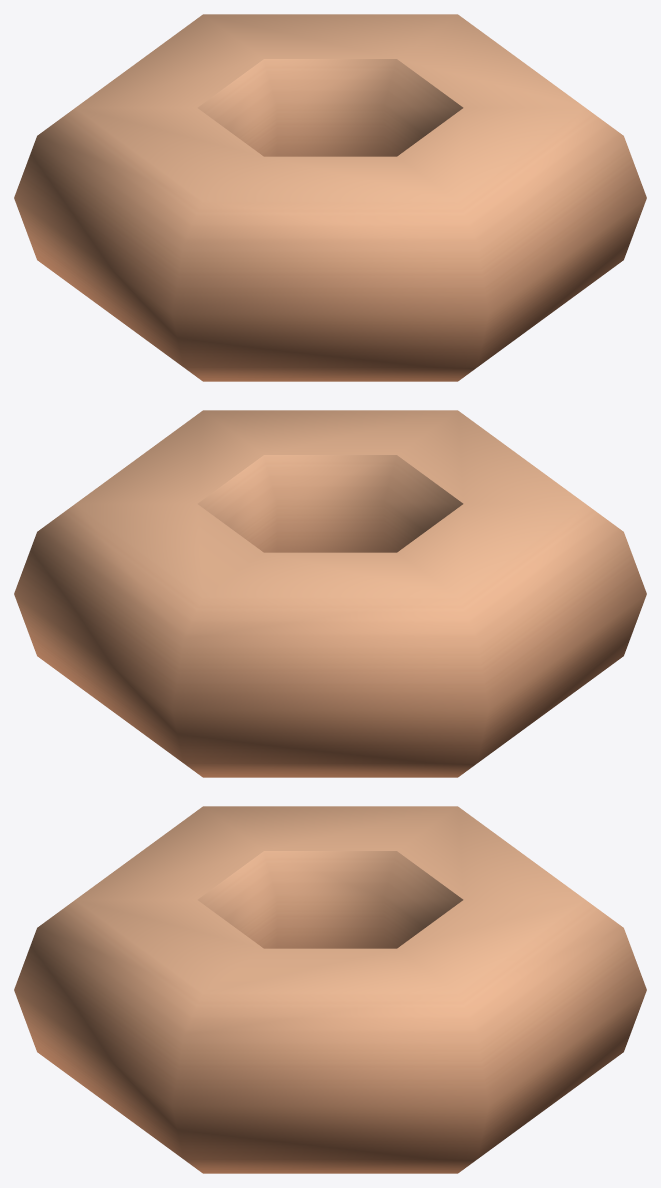
The model's file is donut.obj.
The picture shows the model from 3 angles, top to bottom: view 1: azimuth 30°, elevation 25°; view 2: azimuth 150°, elevation 25°; view 3: azimuth 270°, elevation 25°; orthographic projection.
Visible parts, largest first — view 1: donut; view 2: donut; view 3: donut.
Part boxes in pixels (x1=…): donut: x1=14, y1=14, x2=646, y2=381; donut: x1=14, y1=410, x2=646, y2=777; donut: x1=14, y1=806, x2=646, y2=1173.
Size of the model in its own units: 0.2451 by 0.0889 by 0.283.
Materials: 1 (1 with a texture image).
